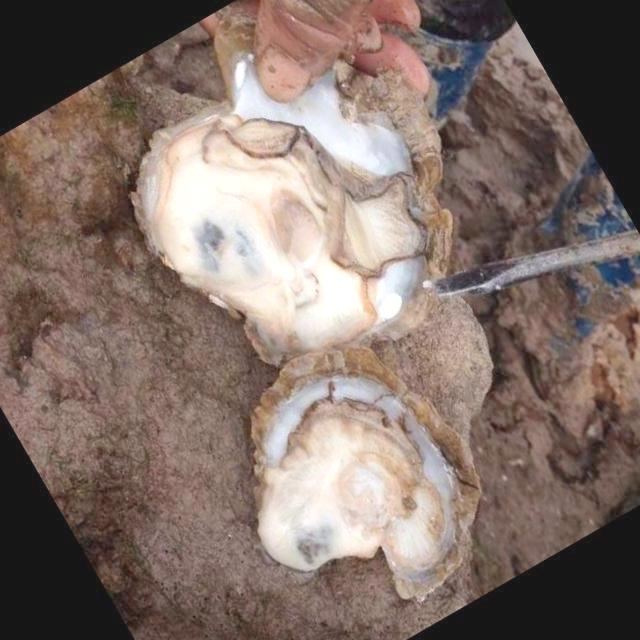Oyster-Open: (134, 60, 450, 366), (250, 345, 480, 603)
